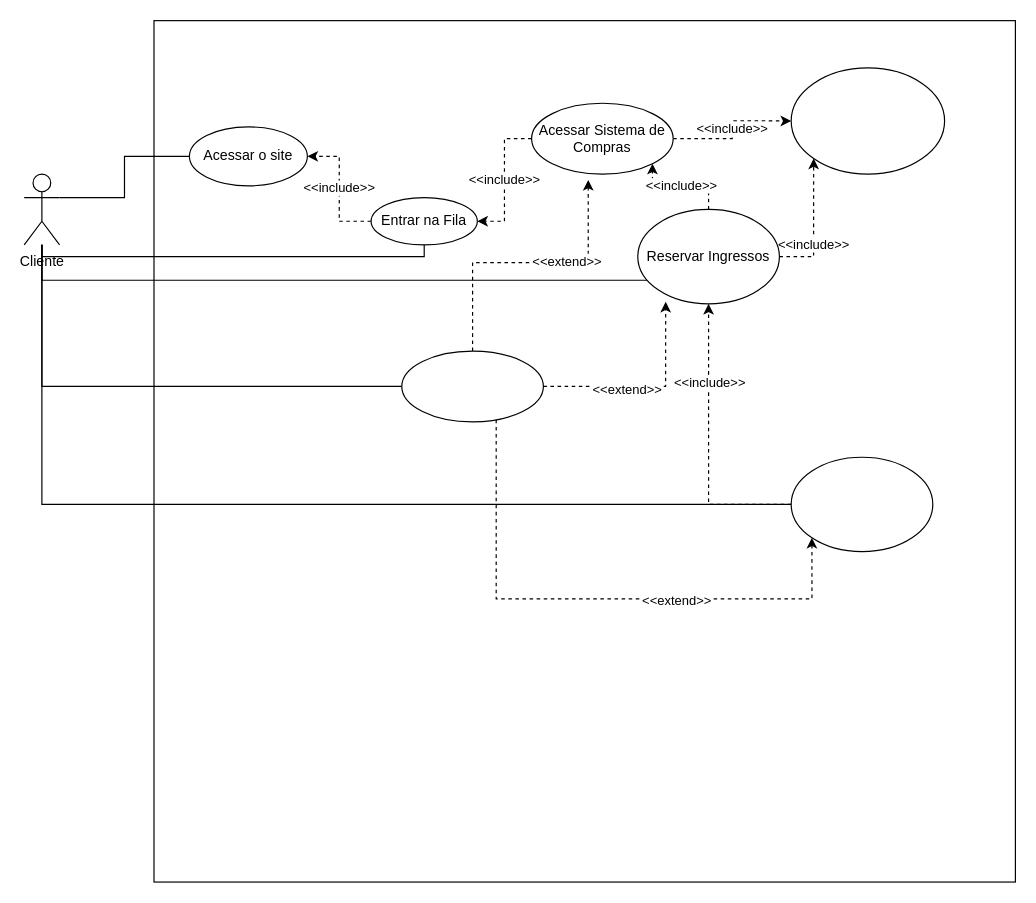
Some shapes in this 1036 by 903 pixel diagram are drawn without their labels. Here are the shapes that lost their labels. From the top down, the centre of each, then its label:
At (867,120): "Checar disponibilidade de ingressos".
At (472,386): "Desistir da Compra".
At (861,504): "Realizar Compra".
